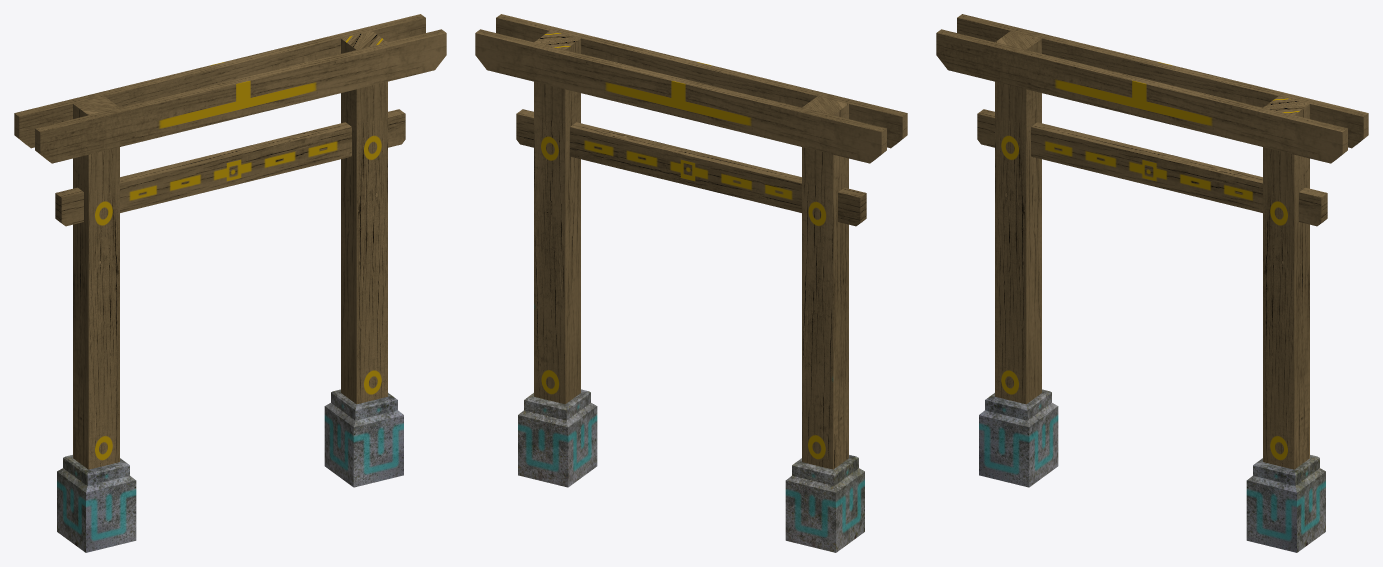
The model's file is Wooden_Gateway.FBX.
3 views of the same model, side by side, from view 1: azimuth 30°, elevation 25°; view 2: azimuth 150°, elevation 25°; view 3: azimuth 330°, elevation 25° (orthographic).
Visible parts, largest first — view 1: Box20; view 2: Box20; view 3: Box20.
Part boxes in pixels (x1=…): Box20: x1=14, y1=14, x2=446, y2=552; Box20: x1=475, y1=14, x2=907, y2=552; Box20: x1=936, y1=14, x2=1368, y2=552.
Size of the model in its own units: 248 by 251 by 30.71.
